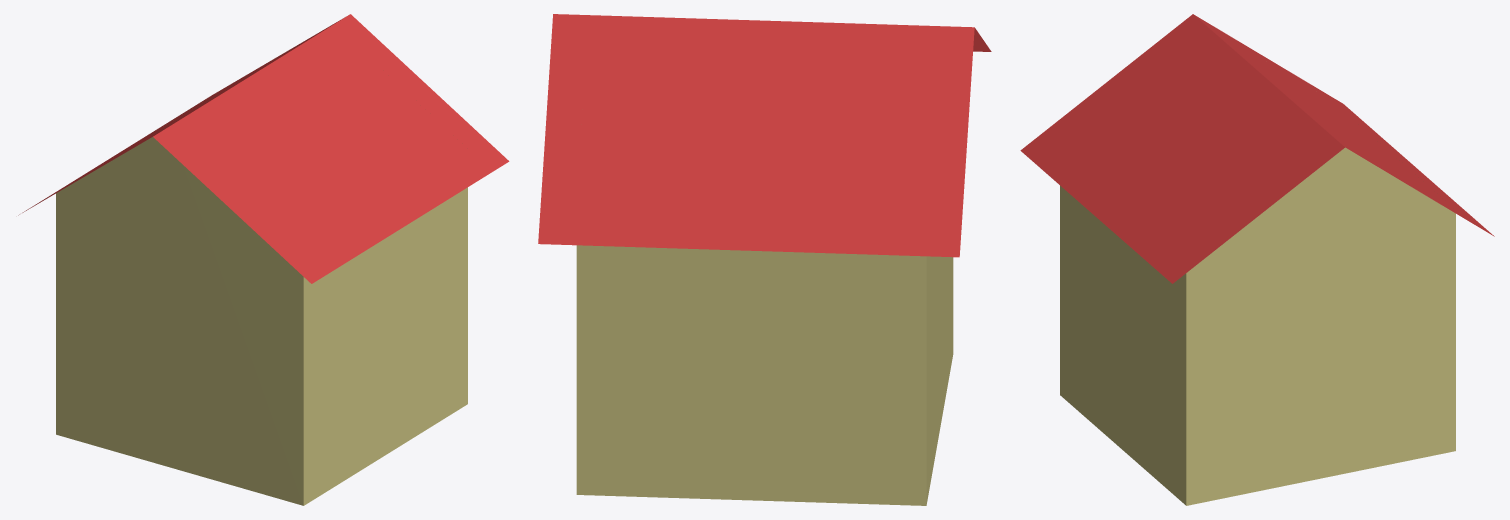
3 views of the same model, side by side, from view 1: azimuth 30°, elevation 25°; view 2: azimuth 150°, elevation 25°; view 3: azimuth 270°, elevation 25° (orthographic). The views are drawn at different scales.
Size of the model in its own units: 7.91 by 7.97 by 6.3.
